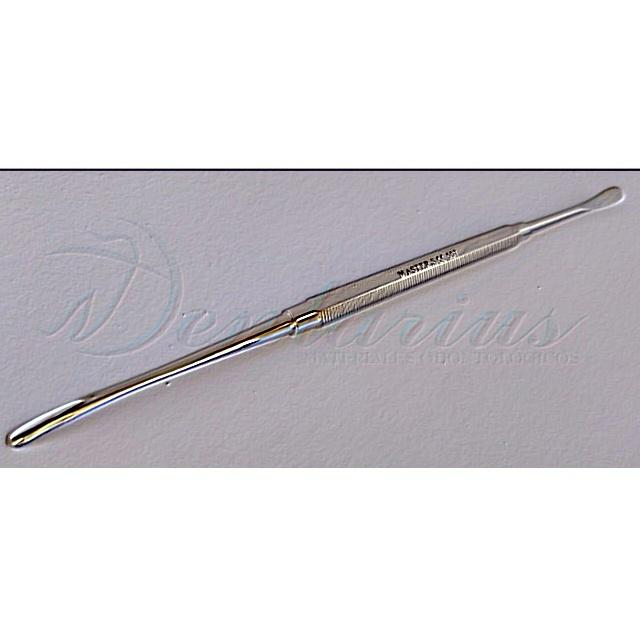elevador: (7, 190, 621, 449)
